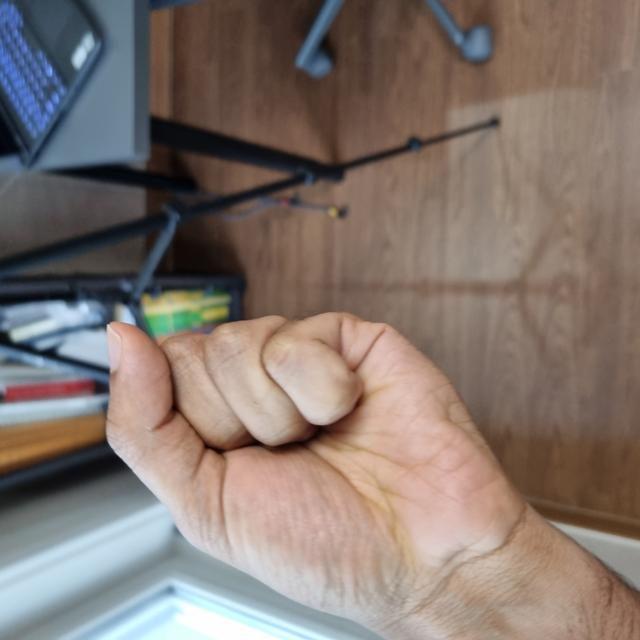Rock: (1, 100, 326, 515)
